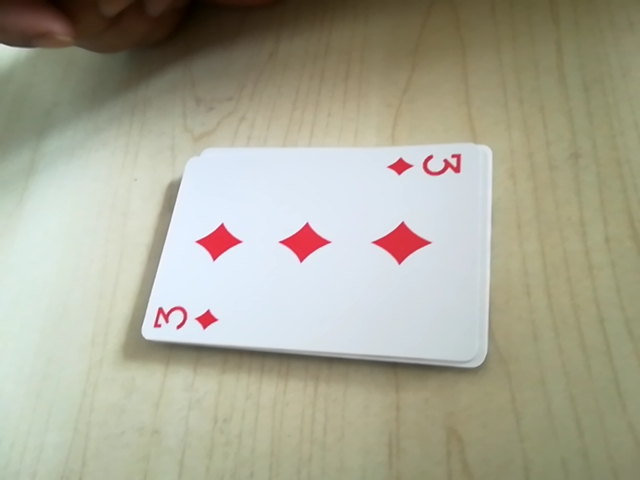fk 3: (382, 144, 469, 186), (147, 297, 224, 336)
